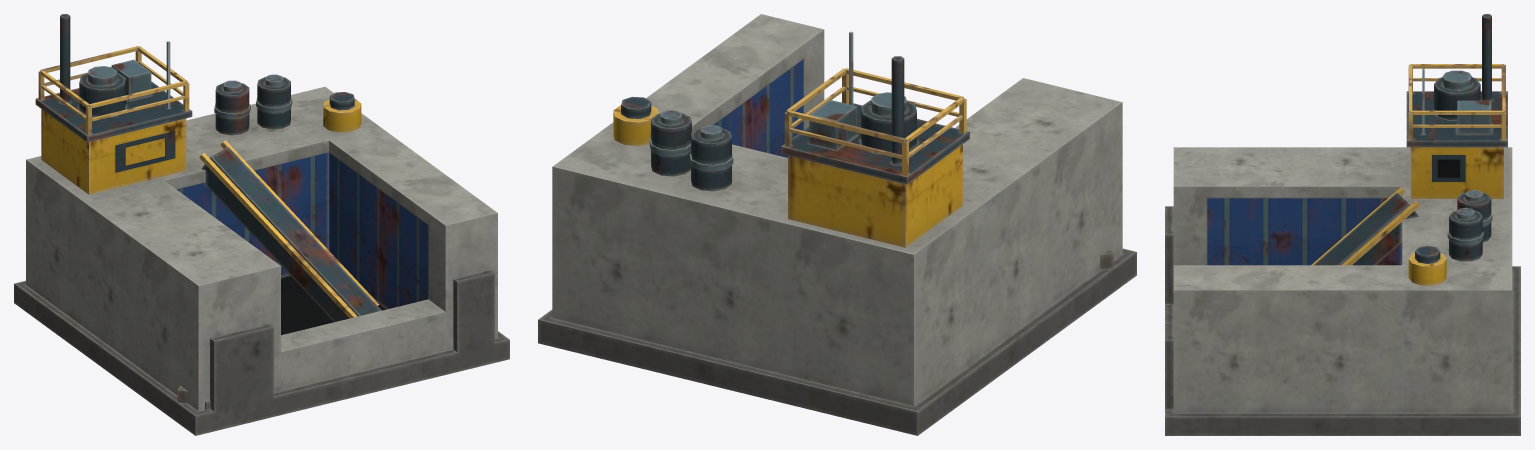
The model's file is mine.glb.
3 renders of one model, left to right at view 1: azimuth 30°, elevation 25°; view 2: azimuth 150°, elevation 25°; view 3: azimuth 270°, elevation 25°, orthographic. The views are drawn at different scales.
Visible parts, largest first — view 1: te_mine; view 2: te_mine; view 3: te_mine.
Part boxes in pixels (x1,y1,x2,y2): te_mine: [14, 14, 509, 435]; te_mine: [538, 14, 1136, 435]; te_mine: [1165, 14, 1520, 435].
Bounding box in the file's own units: 0.84 × 0.745 × 0.84.
1 material, 1 textured.
